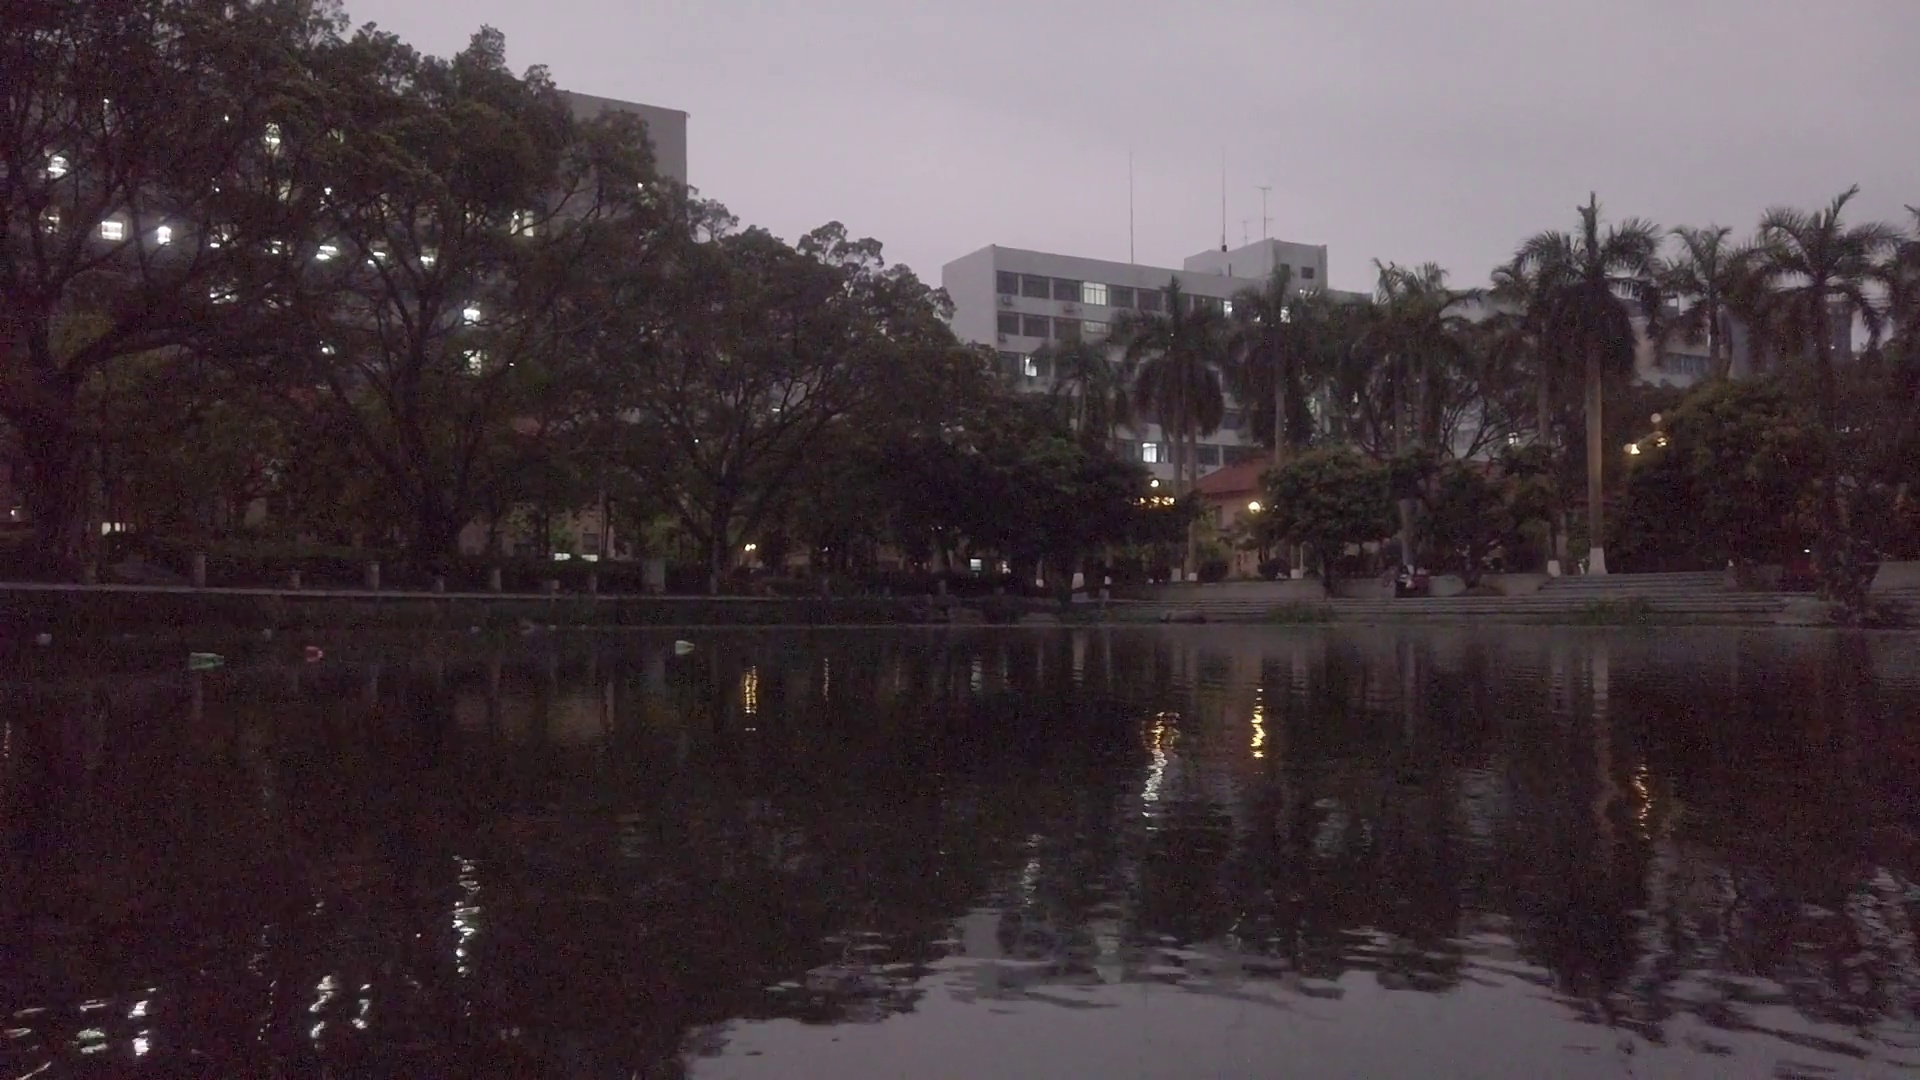bottle: (190, 651, 224, 663), (675, 640, 698, 650), (307, 645, 322, 655)
carton: (33, 634, 55, 651)
